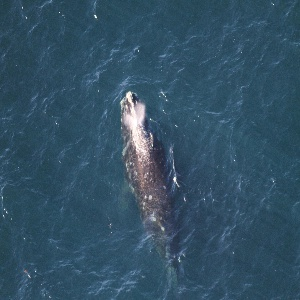cetacean: (119, 91, 186, 300)
